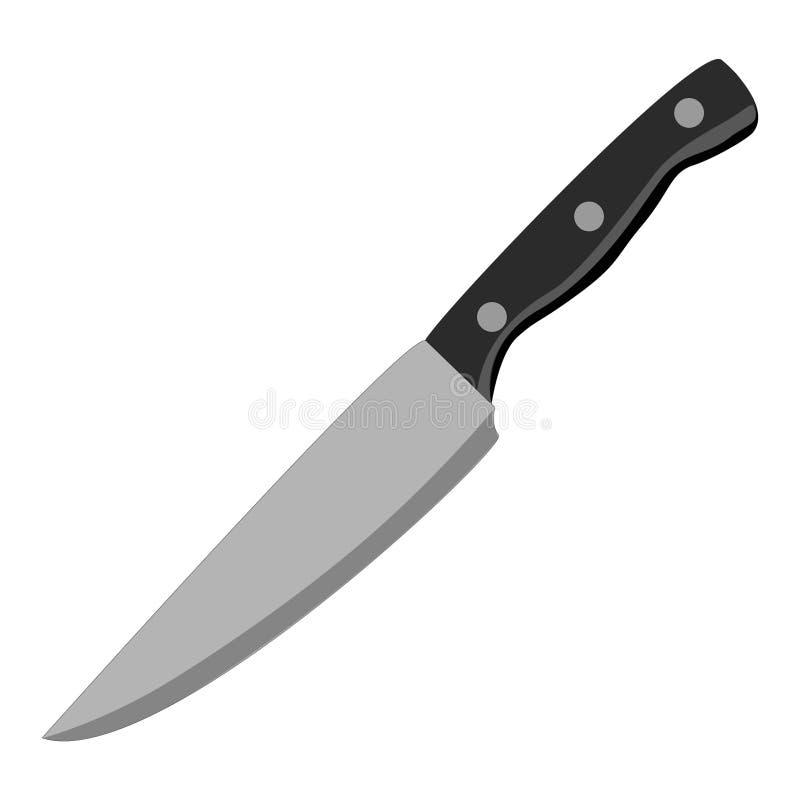Knife: (41, 56, 758, 742)
